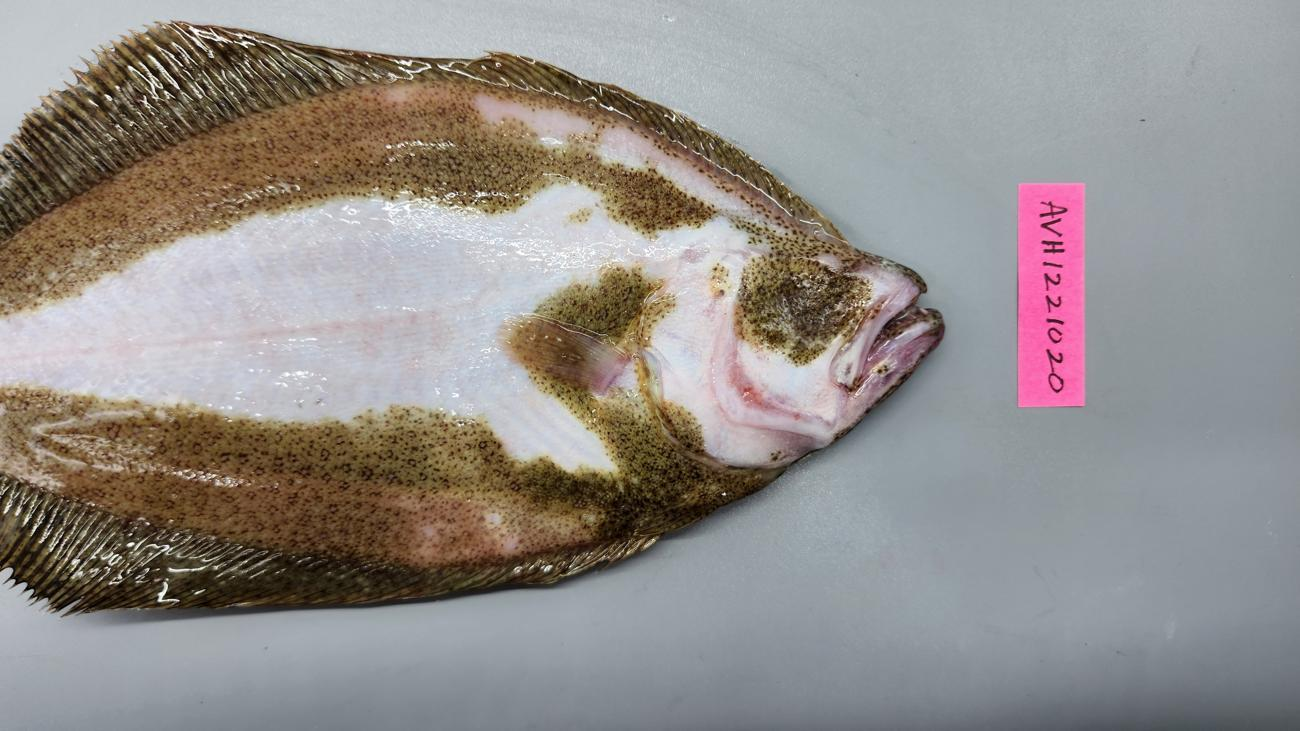VIDYH: (116, 450, 492, 550)
